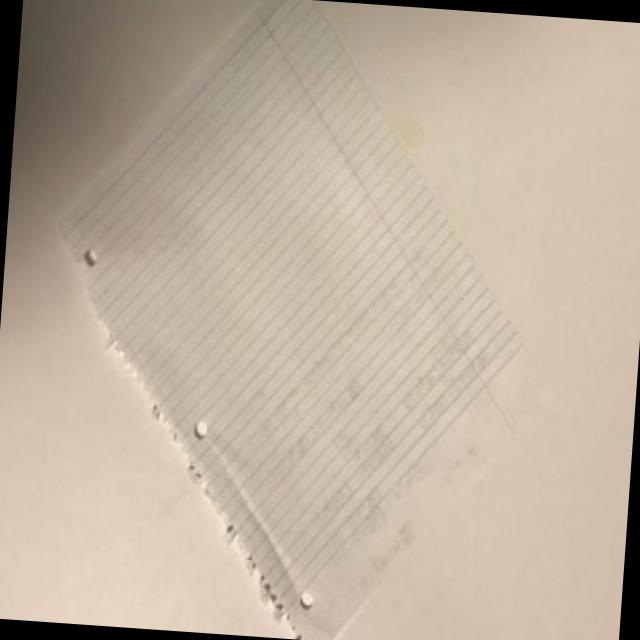cardboard paper: (65, 0, 525, 640)
